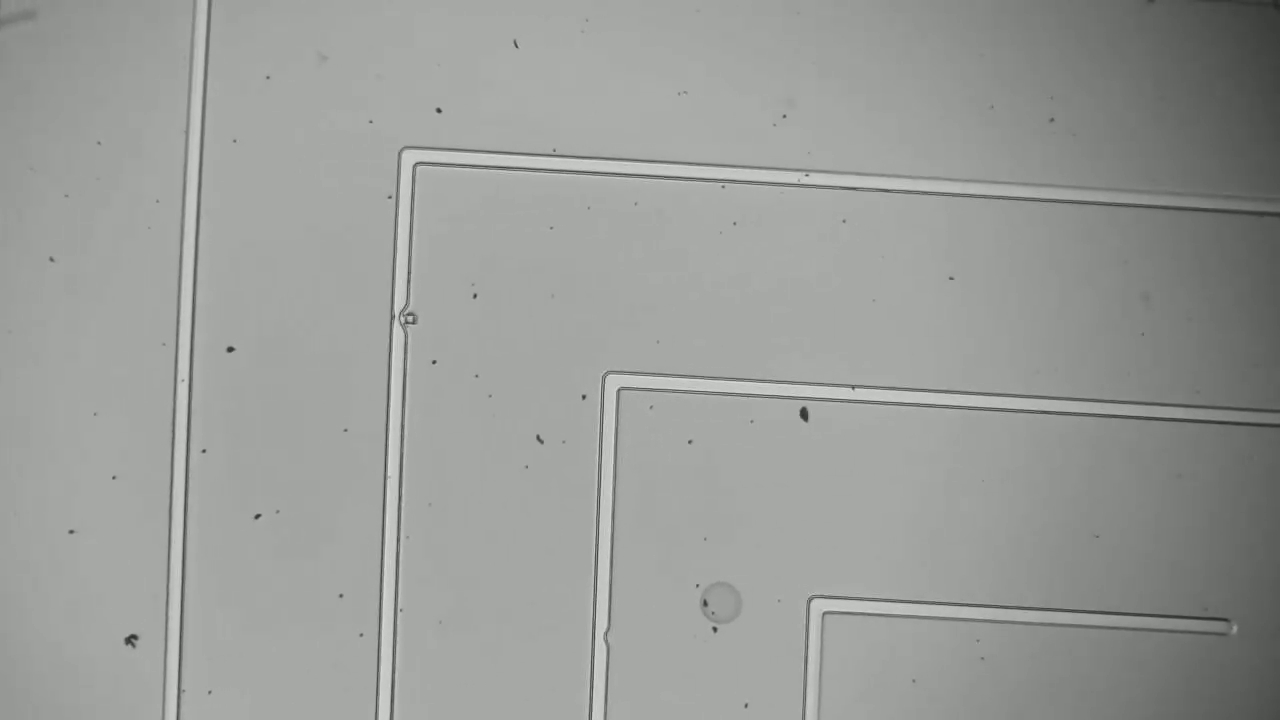edge_bite: (386, 291, 423, 343), (585, 618, 621, 655)
